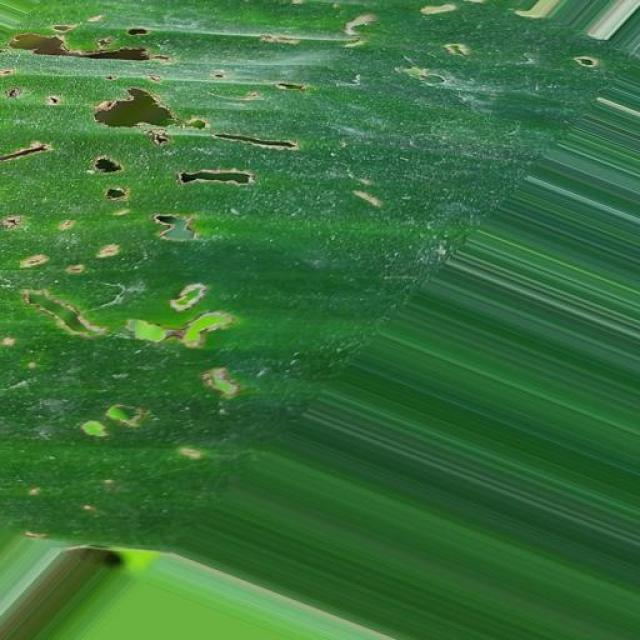Black_rot: (0, 2, 640, 517)
